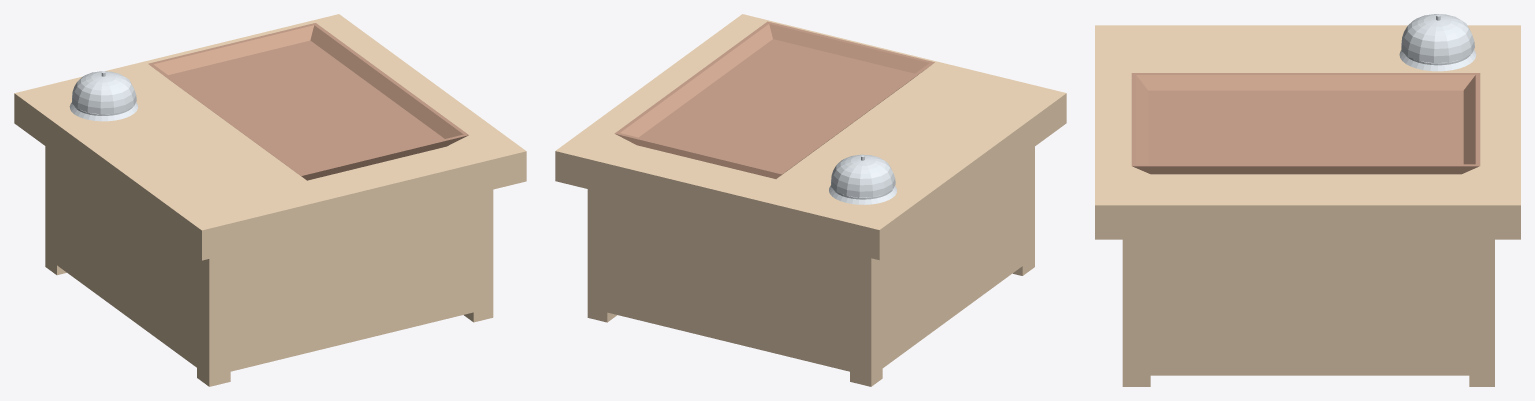
Rendered from delivery.fbx.
3 views of the same model, side by side, from view 1: azimuth 30°, elevation 25°; view 2: azimuth 150°, elevation 25°; view 3: azimuth 270°, elevation 25° (orthographic). The views are drawn at different scales.
Parts seen in each view (by area): view 1: table, tray, bell; view 2: table, tray, bell; view 3: table, tray, bell.
Boxes of the visible parts, x1=… form: table: x1=14, y1=14, x2=526, y2=386; tray: x1=148, y1=23, x2=468, y2=180; bell: x1=69, y1=71, x2=138, y2=121; table: x1=555, y1=14, x2=1066, y2=386; tray: x1=614, y1=21, x2=934, y2=178; bell: x1=829, y1=154, x2=896, y2=204; table: x1=1095, y1=25, x2=1520, y2=386; tray: x1=1131, y1=73, x2=1480, y2=174; bell: x1=1399, y1=14, x2=1476, y2=71.
Size of the model in its own units: 200 by 121 by 200.
